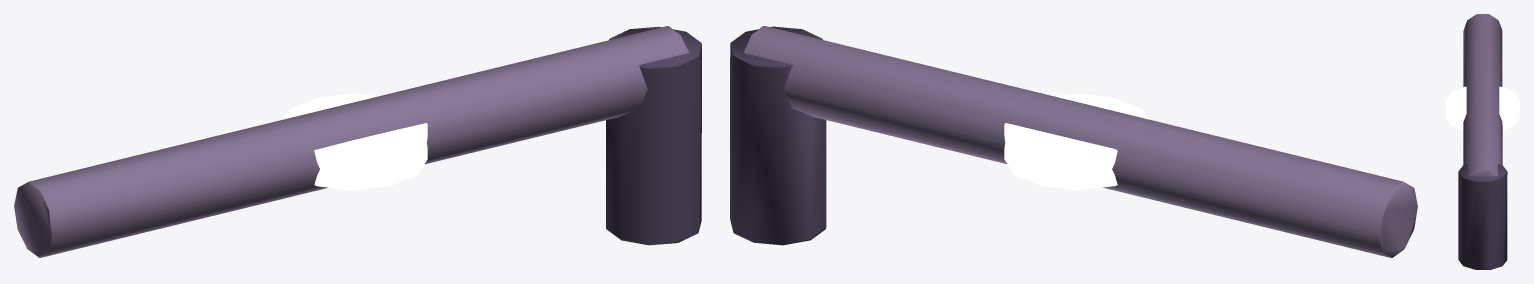
The model's file is SM_Labor_Pipe_LOD2.fbx.
The picture shows the model from 3 angles, left to right: view 1: azimuth 30°, elevation 25°; view 2: azimuth 150°, elevation 25°; view 3: azimuth 270°, elevation 25°; orthographic projection. The views are drawn at different scales.
Parts seen in each view (by area): view 1: SM_Labor_Pipe_LOD2; view 2: SM_Labor_Pipe_LOD2; view 3: SM_Labor_Pipe_LOD2.
Part boxes in pixels (x1,y1,x2,y2): SM_Labor_Pipe_LOD2: (14,26,701,257); SM_Labor_Pipe_LOD2: (730,26,1417,257); SM_Labor_Pipe_LOD2: (1446,14,1519,269).
Size of the model in its own units: 3.09 by 0.851 by 0.5967.
